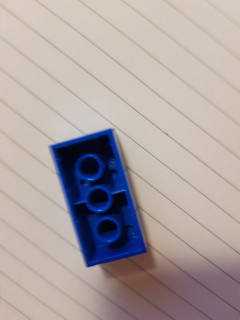2x4 blue: (44, 126, 150, 268)
